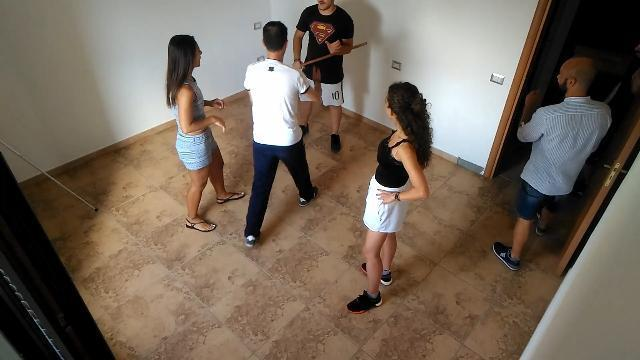non-violence: (491, 58, 609, 276), (346, 62, 432, 316), (147, 22, 239, 241)
violence: (242, 1, 370, 253)
